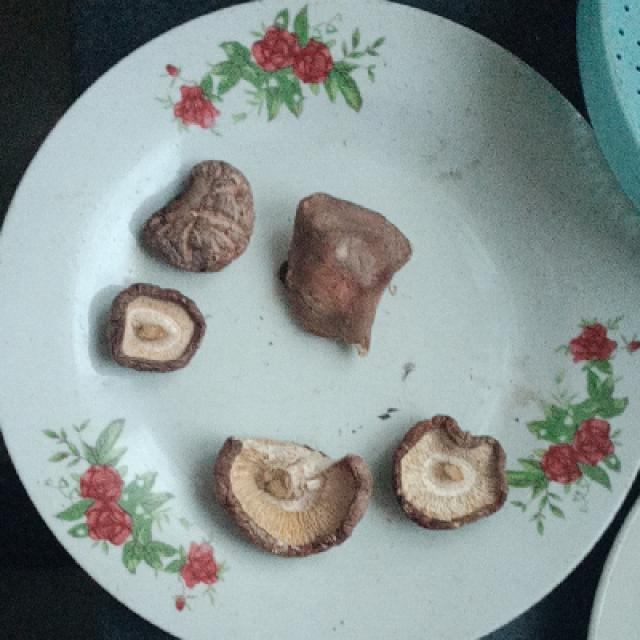Lentinus edodes: (277, 195, 413, 351), (223, 434, 367, 557), (387, 409, 509, 531), (137, 159, 253, 267), (104, 283, 206, 371)
